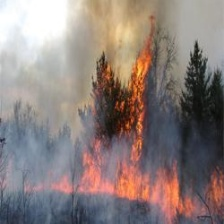fire: (76, 43, 191, 215)
smoke: (1, 4, 104, 174)
